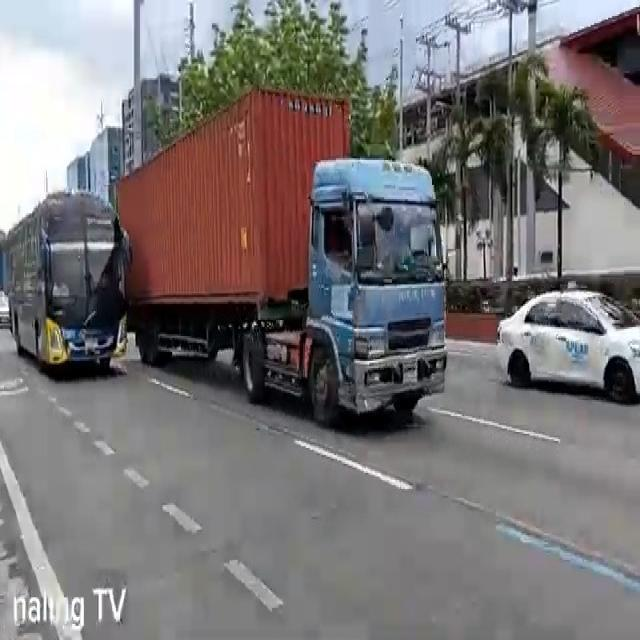bus: (5, 190, 132, 375)
car: (495, 284, 640, 406)
truck: (117, 83, 445, 430)
